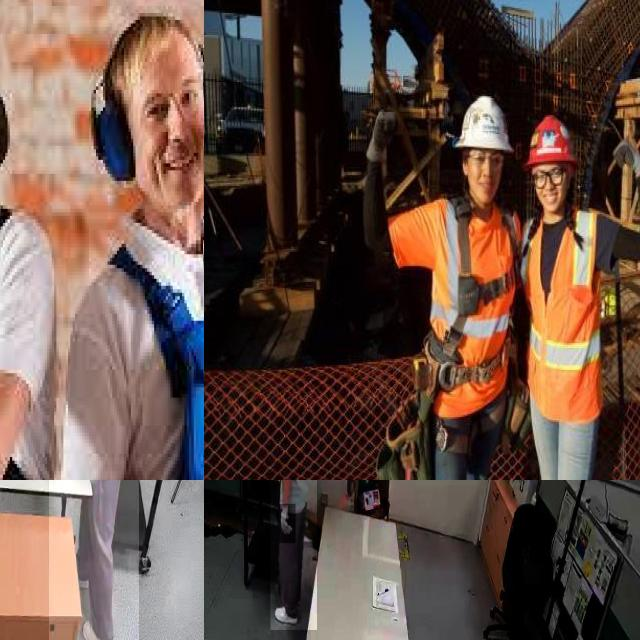Ear-protection: (71, 64, 204, 168)
Harness: (426, 197, 516, 392), (503, 214, 518, 254)
hand_glove: (278, 504, 296, 544)
person: (48, 480, 139, 640), (270, 480, 317, 630)
shoes: (78, 614, 117, 640), (273, 601, 302, 630)
